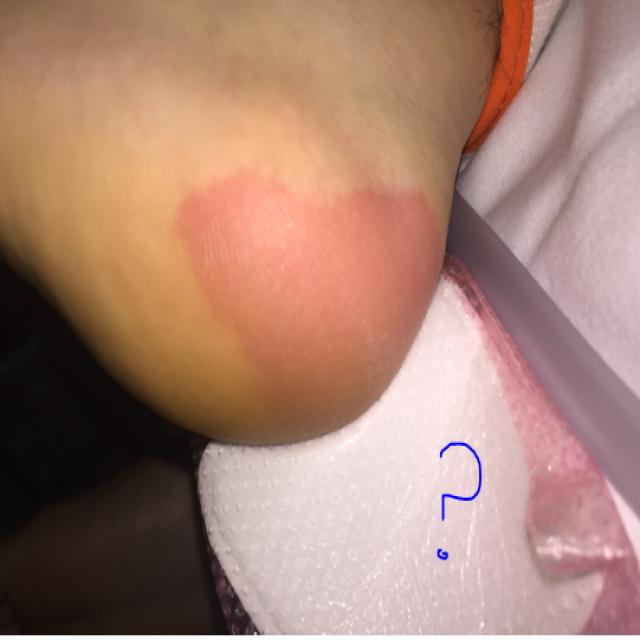stage-1: (178, 178, 437, 436)
